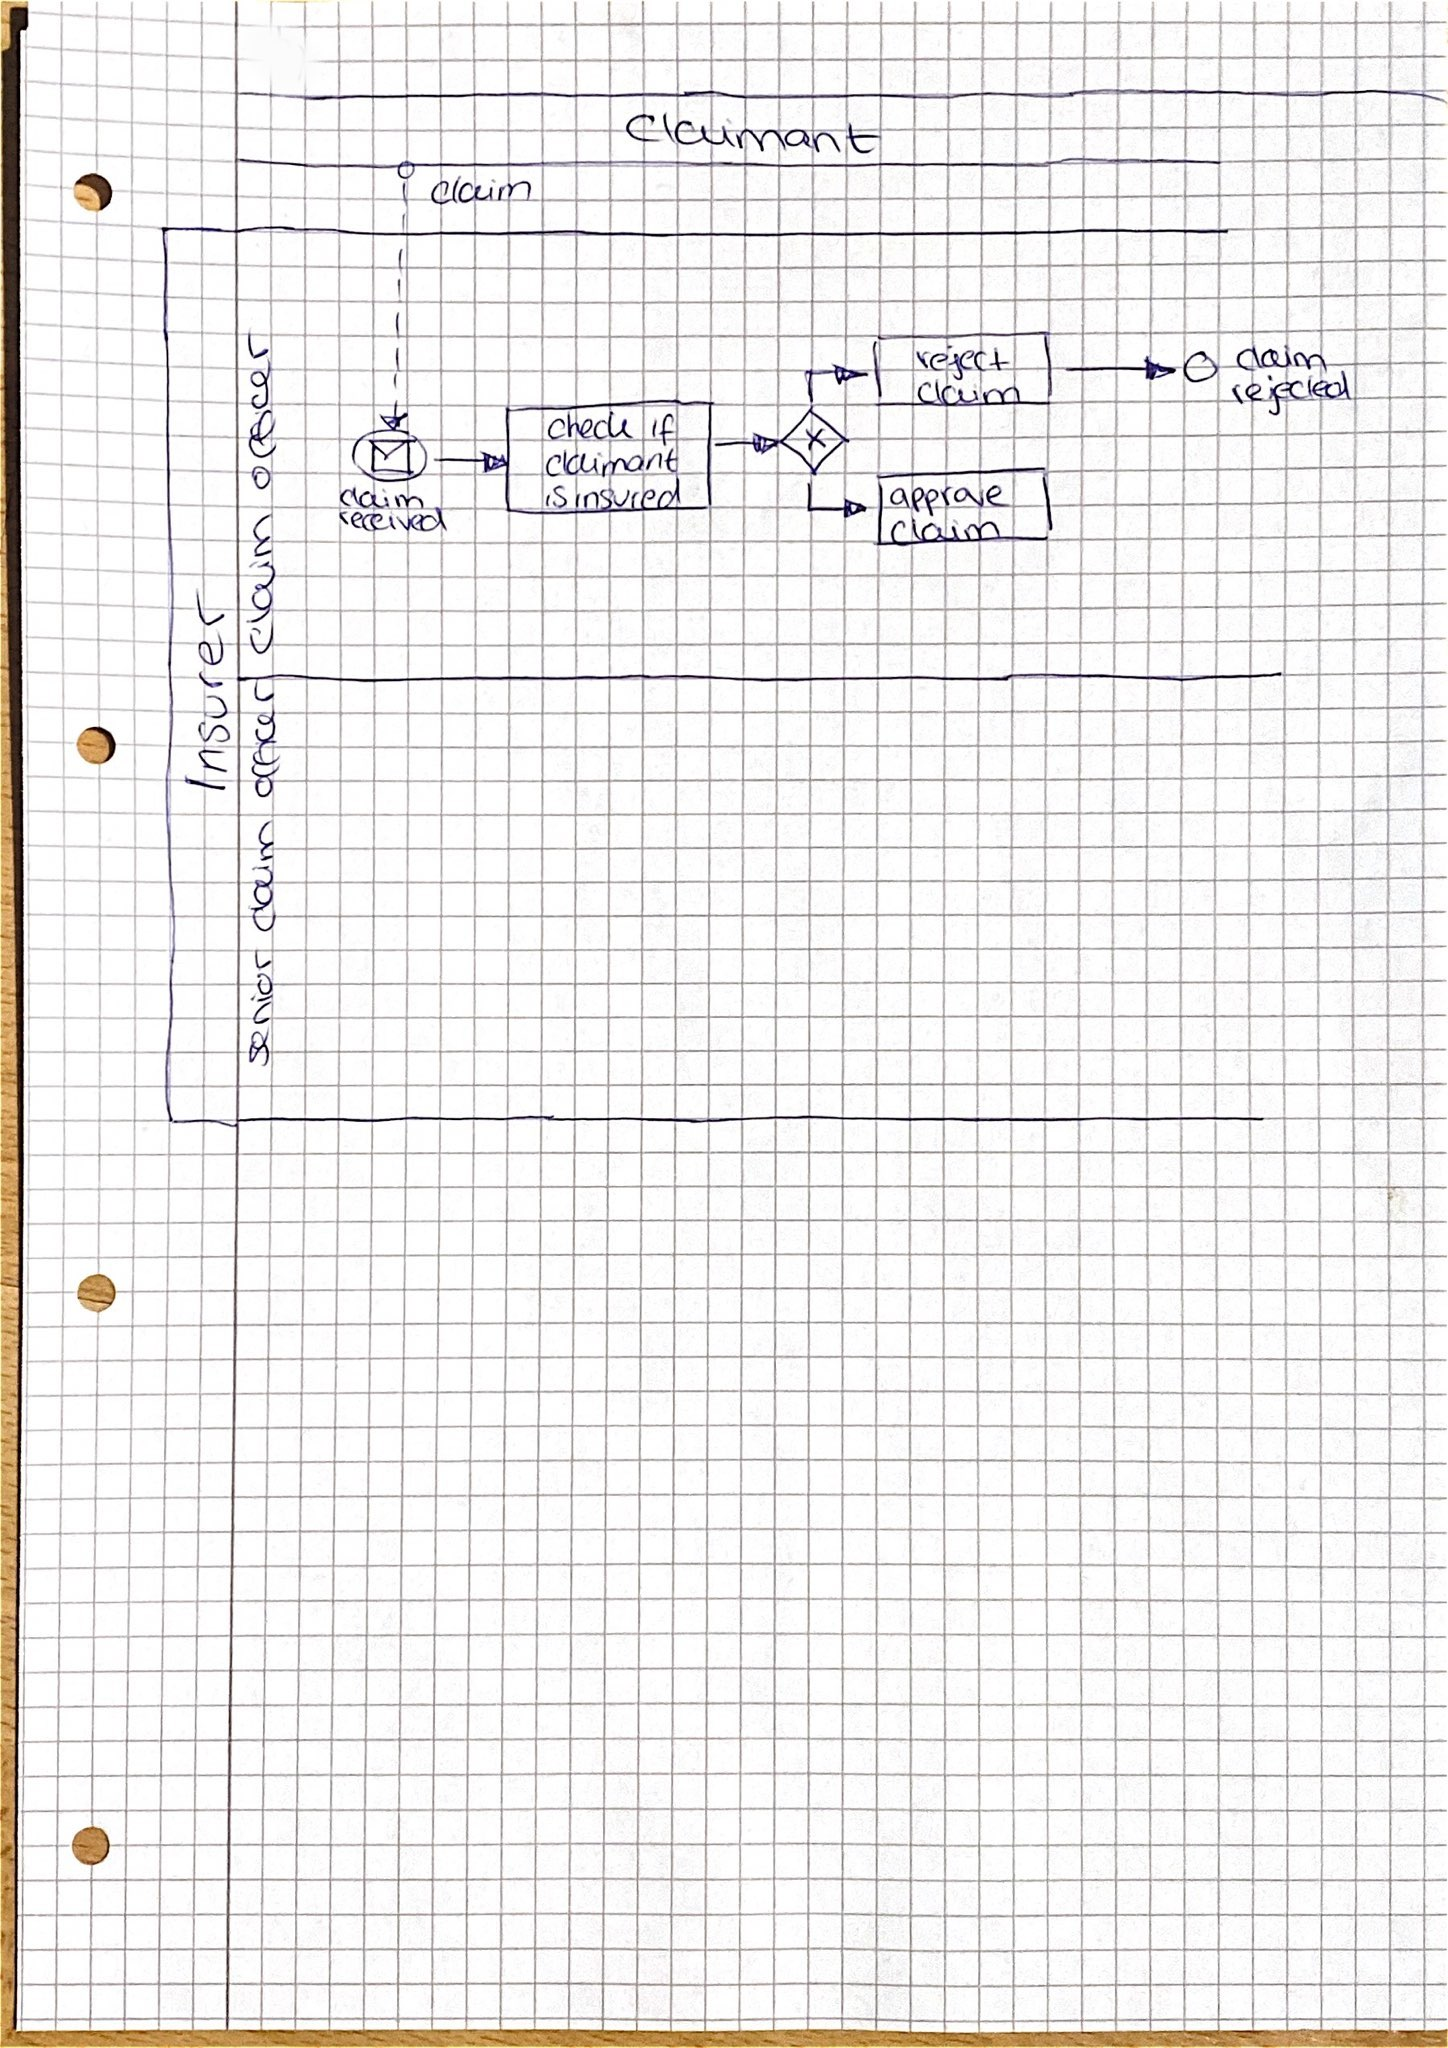Claim: (917, 378, 1019, 409)
Claimant: (632, 111, 882, 161)
IS: (542, 483, 561, 516)
Insurer: (182, 595, 232, 801)
approve: (892, 483, 1008, 516)
check: (547, 412, 636, 447)
claim: (241, 508, 279, 650), (887, 516, 1008, 548), (244, 816, 279, 931), (433, 175, 538, 208), (1235, 338, 1330, 373), (337, 487, 425, 511)
claimant: (544, 445, 683, 481)
if: (641, 412, 679, 448)
insured: (566, 483, 683, 516)
officer: (241, 335, 276, 483), (241, 682, 279, 796)
received: (335, 509, 447, 537)
reject: (912, 345, 1012, 382)
rejected: (1224, 373, 1356, 411)
senior: (243, 940, 277, 1066)
